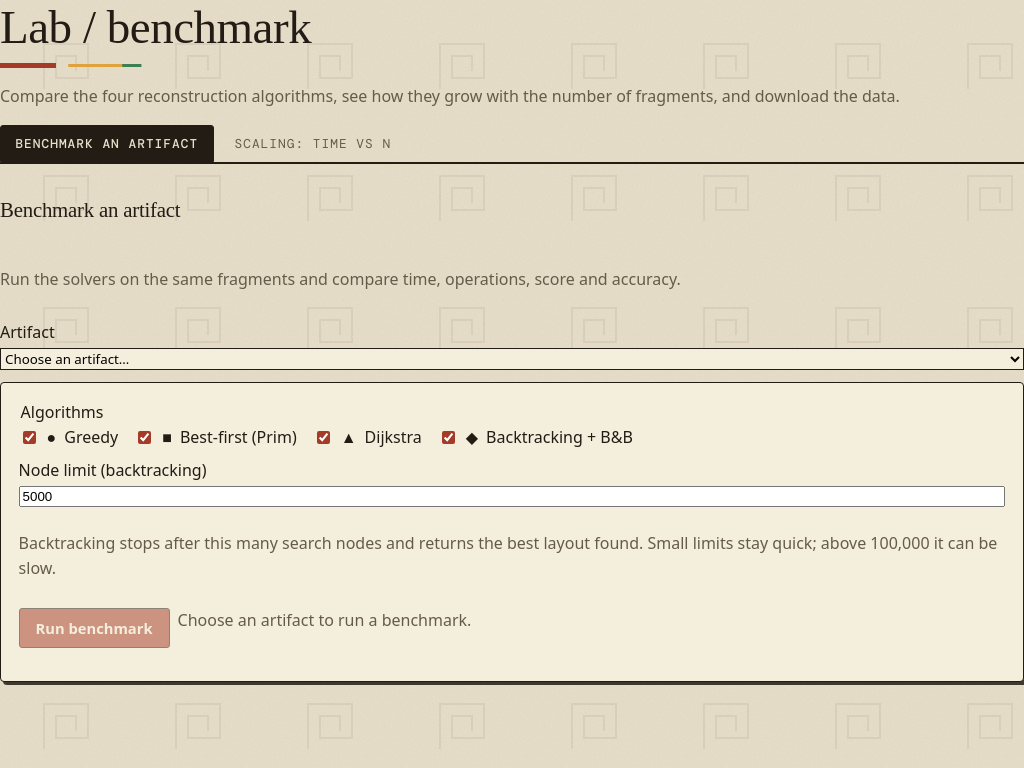
Test case: LabPage: benchmark › Cancel aborts the request and clears the busy state
The width and height of the screenshot is (1024, 768).
Select "Mughal tile panel (16 fragments)" in the dropdown labelled "Artifact" at (512, 359), box [0,348,1023,370]
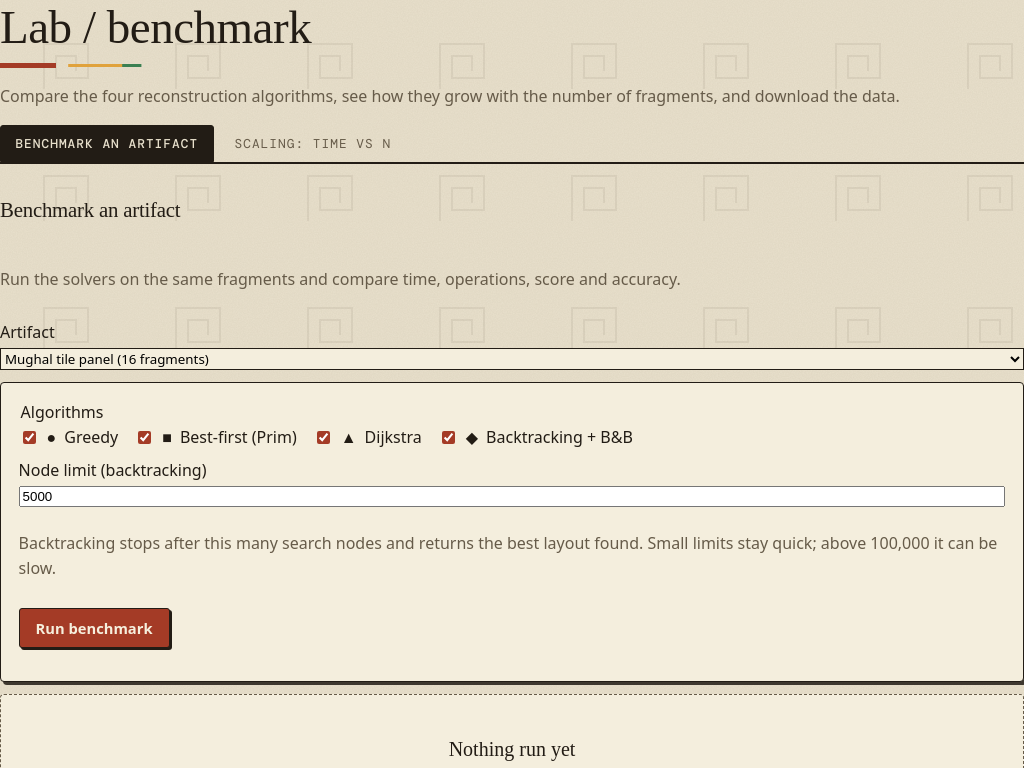
Click the button "Run benchmark" at (94, 628), box [19,608,170,648]
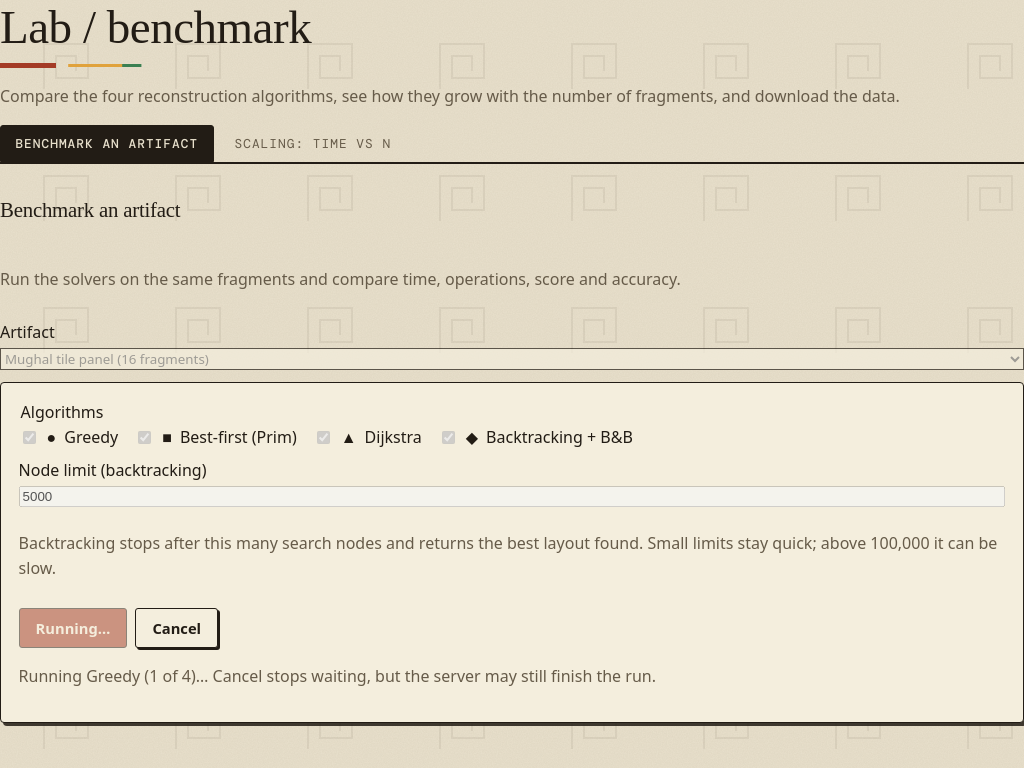
Check: the button "Running…" is disabled, box [19,608,127,648]
Check: the message with test id "bench-status" shows "server may still finish", box [19,665,656,687]
Click the button "Cancel" at (177, 628), box [135,608,218,648]
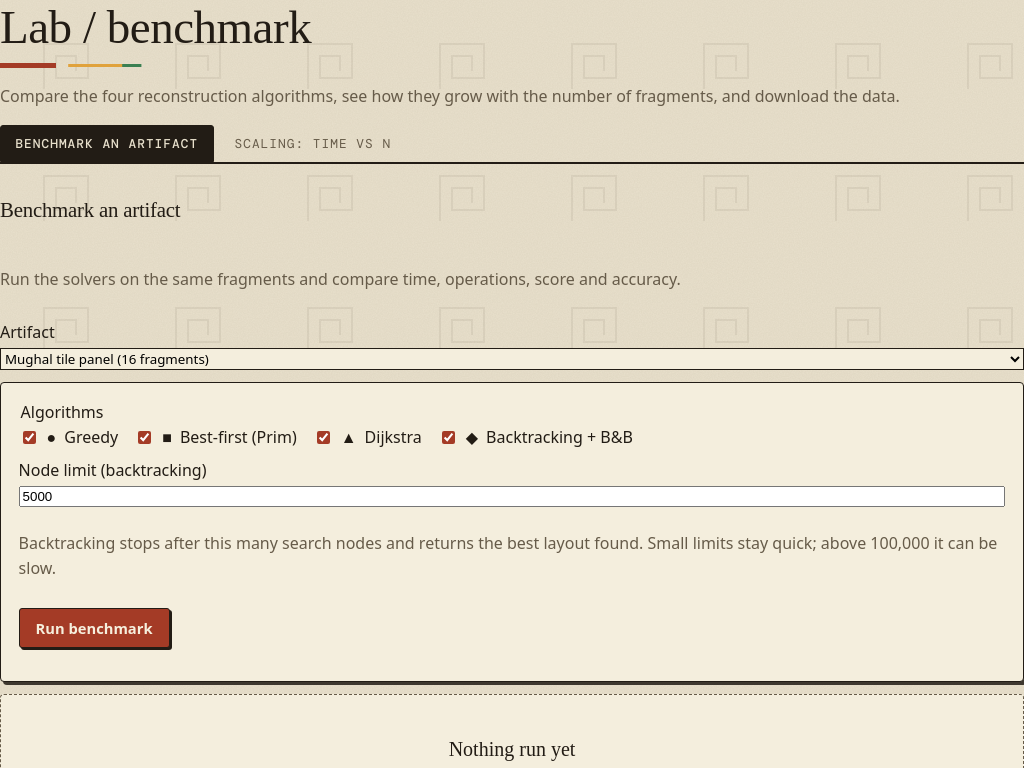
Check: the button "Run benchmark" is enabled, box [19,608,170,648]
